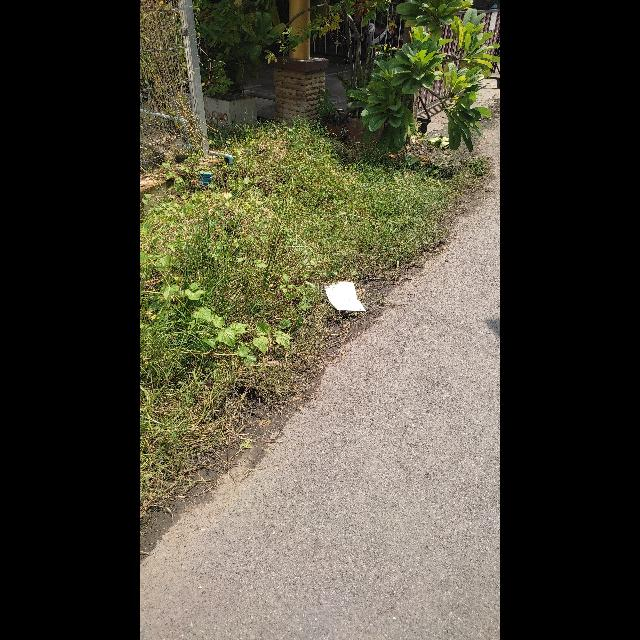scrap_paper: (320, 278, 370, 314)
